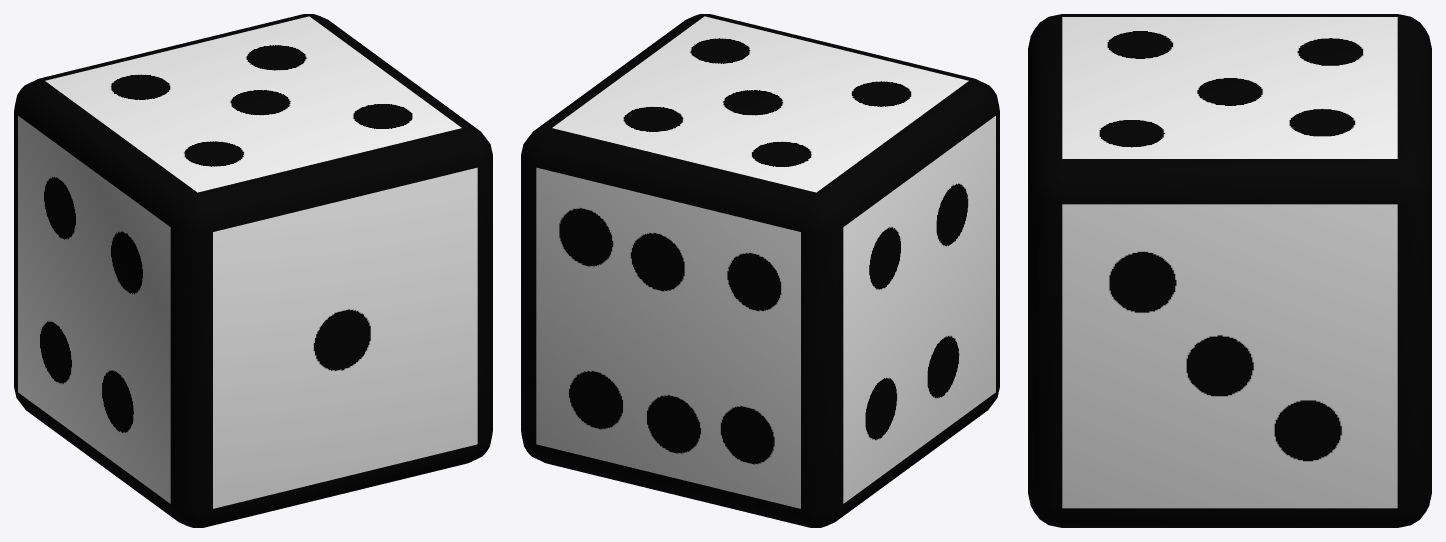
Rendered from Dice.fbx.
3 views of the same model, side by side, from view 1: azimuth 30°, elevation 25°; view 2: azimuth 150°, elevation 25°; view 3: azimuth 270°, elevation 25° (orthographic). The views are drawn at different scales.
Parts seen in each view (by area): view 1: Cube; view 2: Cube; view 3: Cube.
Boxes of the visible parts, box(x1,y1,x2,y2) form: Cube: box(14, 14, 492, 527); Cube: box(521, 14, 999, 527); Cube: box(1028, 14, 1431, 527).
Size of the model in its own units: 200 by 200 by 200.
